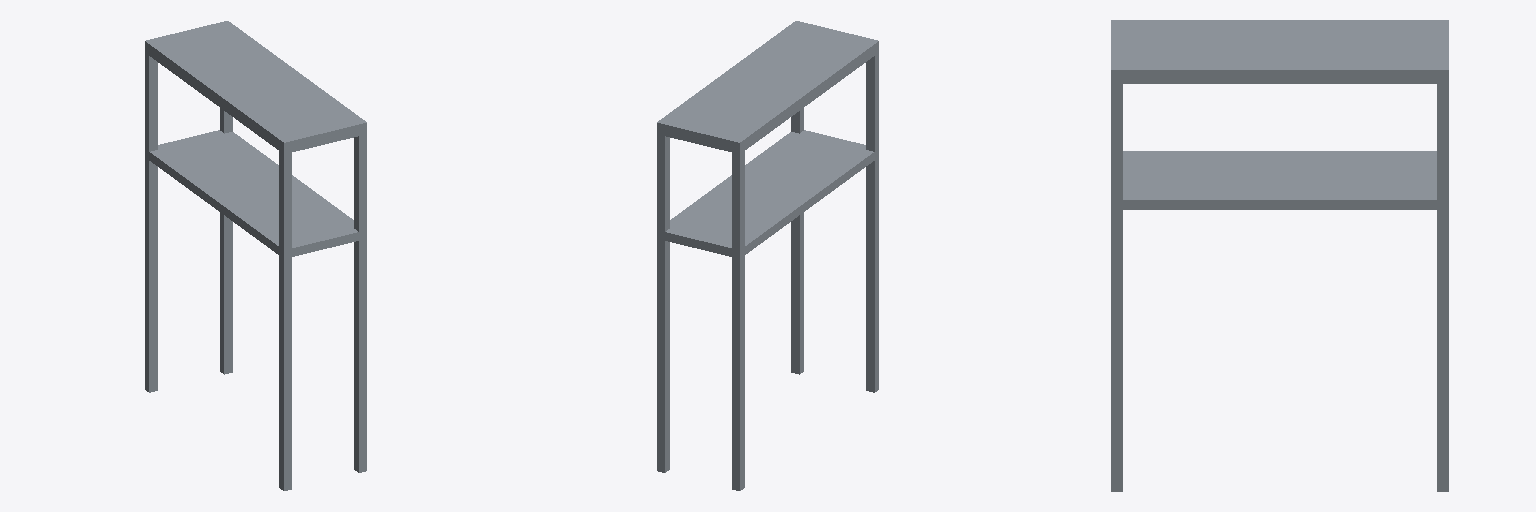
robot.urdf — stirfry_stage_300x870:
<?xml version="1.0"?>
<!-- Converted from stirfry_stage_300x870.step. Source axes already use XY floor and Z up. -->
<robot name="stirfry_stage_300x870">
  <material name="stainless"><color rgba="0.62 0.65 0.68 1.0"/></material>
  <link name="base_link">
    <inertial>
      <origin xyz="0 0 0.6"/>
      <mass value="30.0"/>
      <inertia ixx="5.49225" ixy="0" ixz="0" iyy="3.825" iyz="0" izz="2.11725"/>
    </inertial>
    <visual>
      <geometry><mesh filename="meshes/stirfry_stage_300x870.stl" scale="1 1 1"/></geometry>
      <material name="stainless"/>
    </visual>
    <collision name="top"><origin xyz="0 0 1.18"/><geometry><box size="0.30 0.87 0.04"/></geometry></collision>
    <collision name="middle"><origin xyz="0 0 0.815"/><geometry><box size="0.30 0.87 0.03"/></geometry></collision>
    <collision name="leg_pp"><origin xyz="0.135 0.420 0.58"/><geometry><box size="0.03 0.03 1.16"/></geometry></collision>
    <collision name="leg_pn"><origin xyz="0.135 -0.420 0.58"/><geometry><box size="0.03 0.03 1.16"/></geometry></collision>
    <collision name="leg_np"><origin xyz="-0.135 0.420 0.58"/><geometry><box size="0.03 0.03 1.16"/></geometry></collision>
    <collision name="leg_nn"><origin xyz="-0.135 -0.420 0.58"/><geometry><box size="0.03 0.03 1.16"/></geometry></collision>
  </link>
</robot>

--- Render facts (derived) ---
3 views of the same robot in one strip: view 1: azimuth 30°, elevation 25°; view 2: azimuth 150°, elevation 25°; view 3: azimuth 270°, elevation 25° (orthographic).
Robot: stirfry_stage_300x870 — 1 links, 0 joints (none); root link base_link; default pose: every joint at zero.
Visible links, largest first — view 1: base_link; view 2: base_link; view 3: base_link.
Link boxes in pixels (<box>): base_link: <box>145,21,366,490</box>; base_link: <box>657,21,878,490</box>; base_link: <box>1111,20,1448,491</box>.
Bounding box of the posed robot: 0.3 × 0.87 × 1.2 m (x, y, z).
1 mesh visuals loaded from 1 distinct referenced files (1 binary STL).
